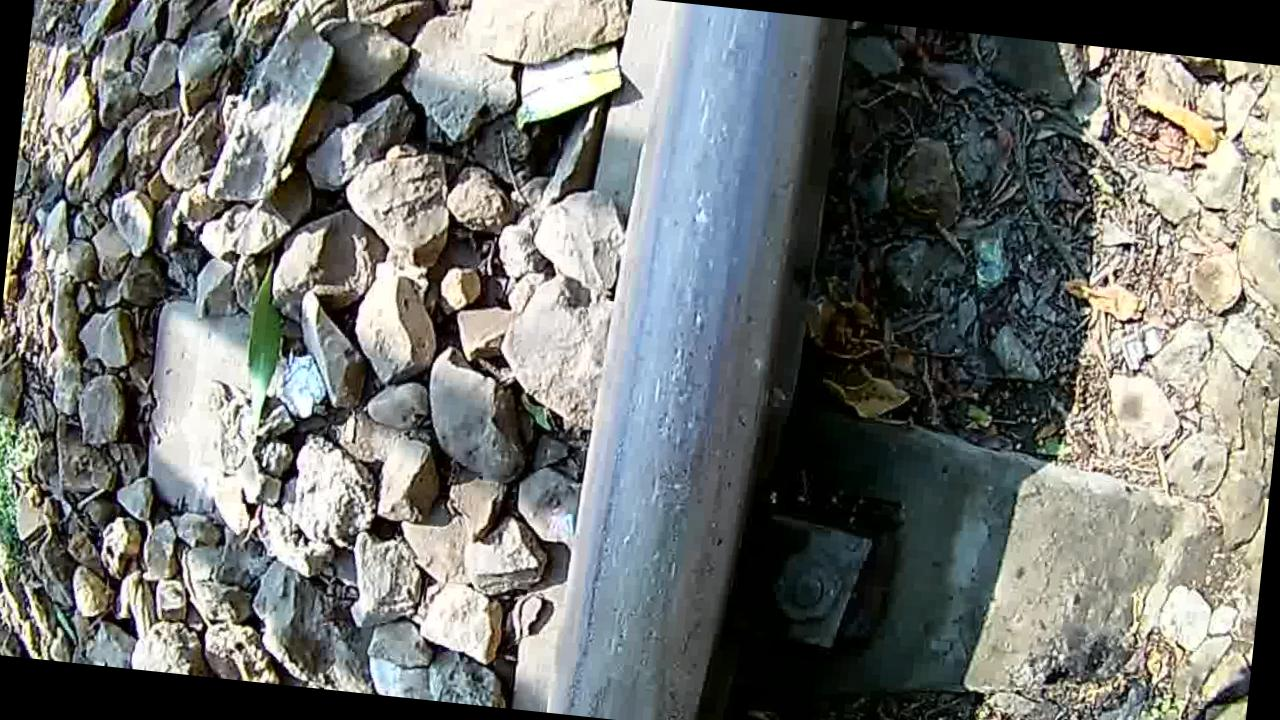bolt_missing: (560, 484, 723, 720)
